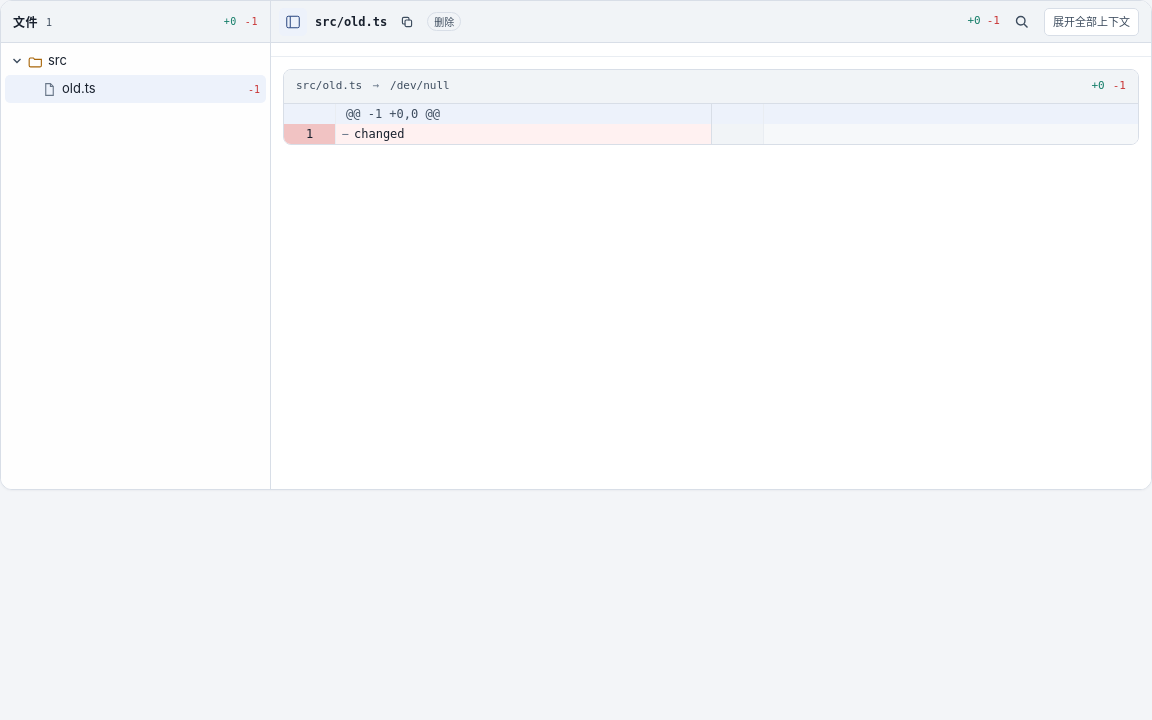
Test: DiffViewer 受控标准 patch › removed 文件只请求存在的一侧，且不会生成虚假的 0 行上下文
Step 1. Click the button with class "context-toolbar-button" → {"x": 1092, "y": 22}, box 1044,8 -> 1139,36
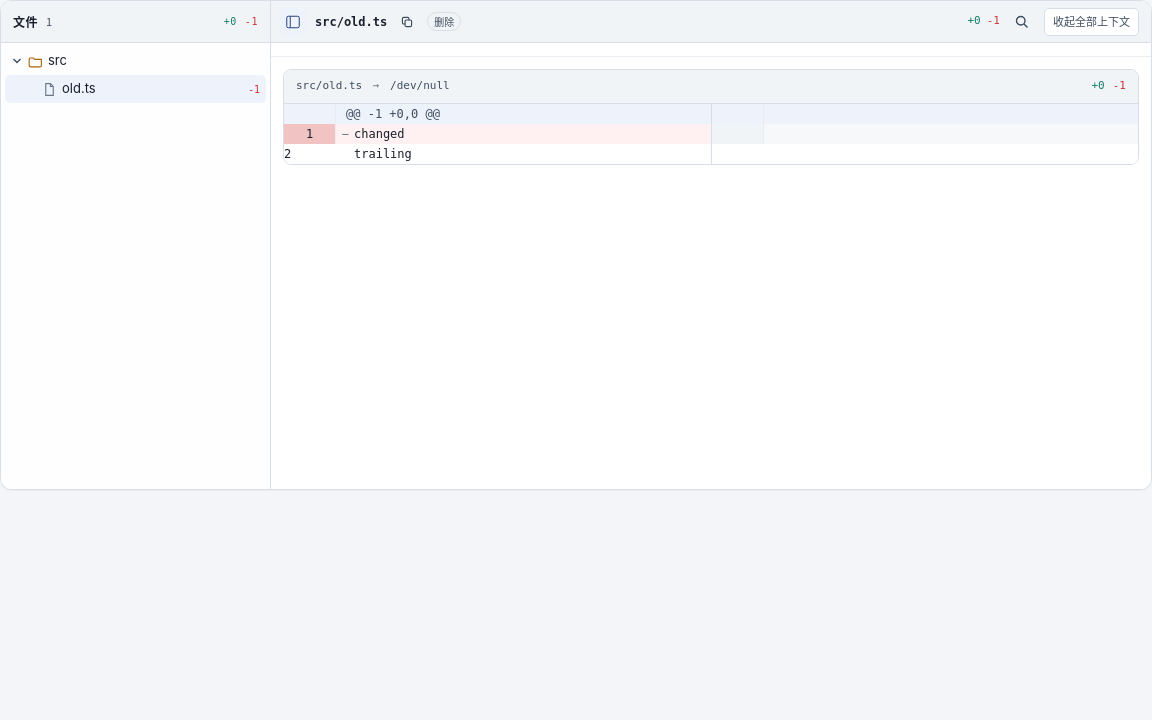
Check: the element with class "controlled-side-left" shows "trailing", box 354,147 -> 412,161
